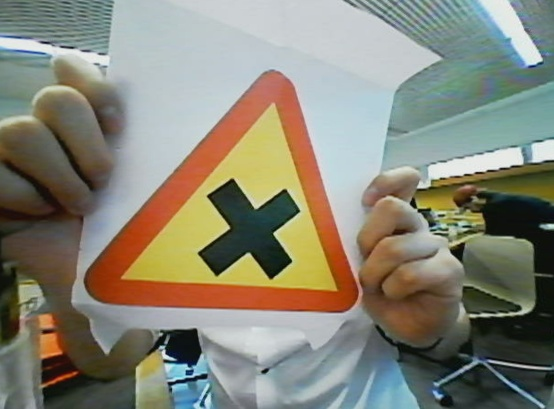junction: (103, 53, 376, 326)
